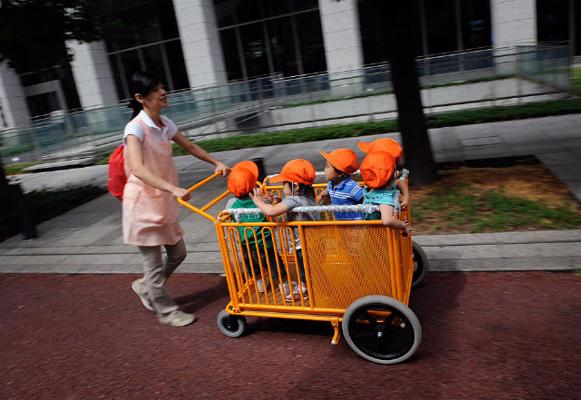person: (116, 76, 231, 327)
